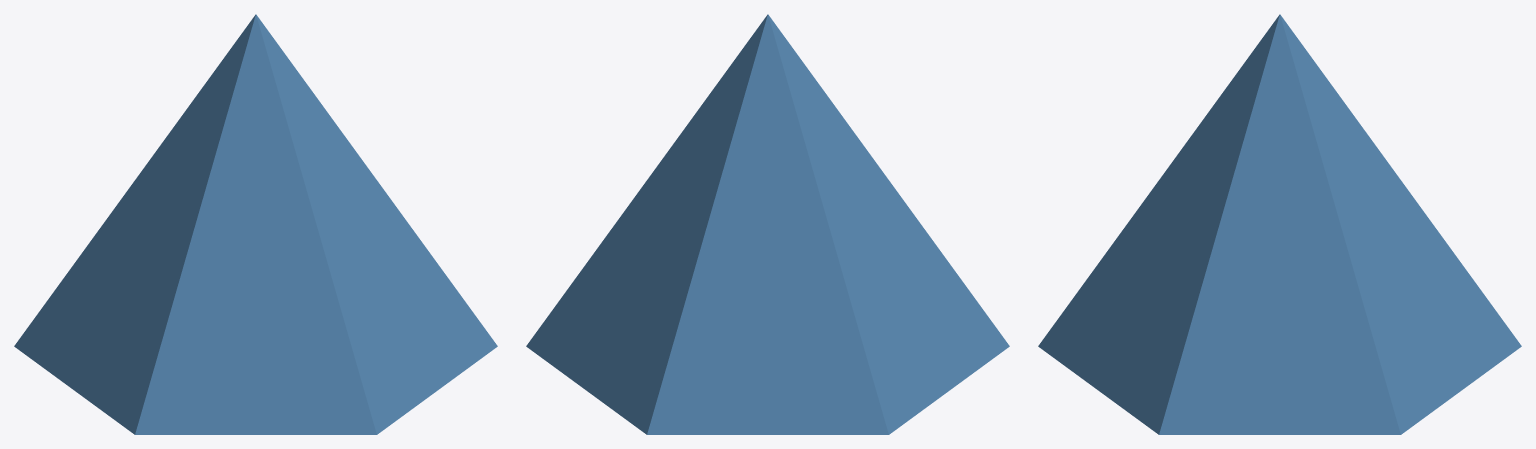
Rendered from mountain.fbx.
The picture shows the model from 3 angles, left to right: view 1: azimuth 30°, elevation 25°; view 2: azimuth 150°, elevation 25°; view 3: azimuth 270°, elevation 25°; orthographic projection.
Parts seen in each view (by area): view 1: Cone; view 2: Cone; view 3: Cone.
Part boxes in pixels (x1,y1,x2,y2): Cone: [14, 14, 497, 434]; Cone: [526, 14, 1009, 434]; Cone: [1038, 14, 1521, 434].
Bounding box in the file's own units: 76.92 × 67.32 × 88.82.
1 material, 1 textured.
